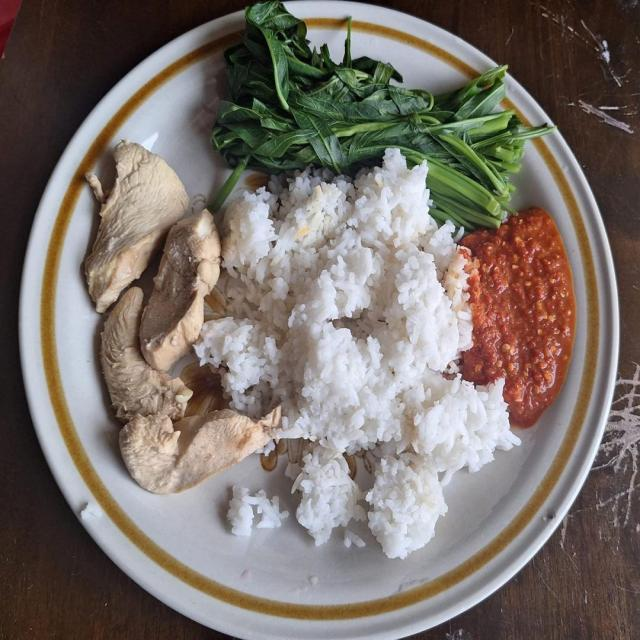Chicken: (85, 141, 268, 494)
Plate: (20, 11, 618, 639)
Rice: (200, 160, 520, 562)
Vegetables: (210, 1, 549, 229)
